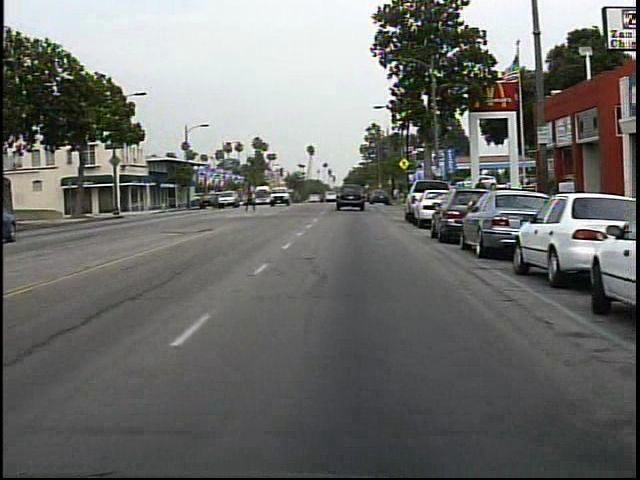person: (469, 175, 490, 217), (243, 182, 261, 214)
